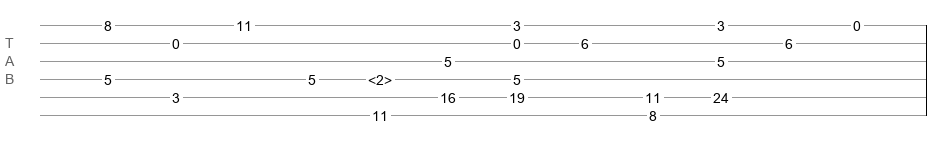0: (172, 36, 180, 46), (513, 36, 521, 46), (853, 18, 861, 28)
11: (236, 18, 252, 28), (372, 108, 388, 118), (645, 90, 661, 100)
16: (440, 90, 456, 100)
19: (509, 90, 525, 100)
24: (713, 90, 729, 100)
3: (172, 90, 180, 100), (513, 18, 521, 28), (717, 18, 725, 28)
5: (104, 72, 112, 82), (308, 72, 316, 82), (444, 54, 452, 64), (513, 72, 521, 82), (717, 54, 725, 64)
6: (581, 36, 589, 46), (785, 36, 793, 46)
8: (104, 18, 112, 28), (649, 108, 657, 118)
harmonic: (368, 72, 392, 82)
